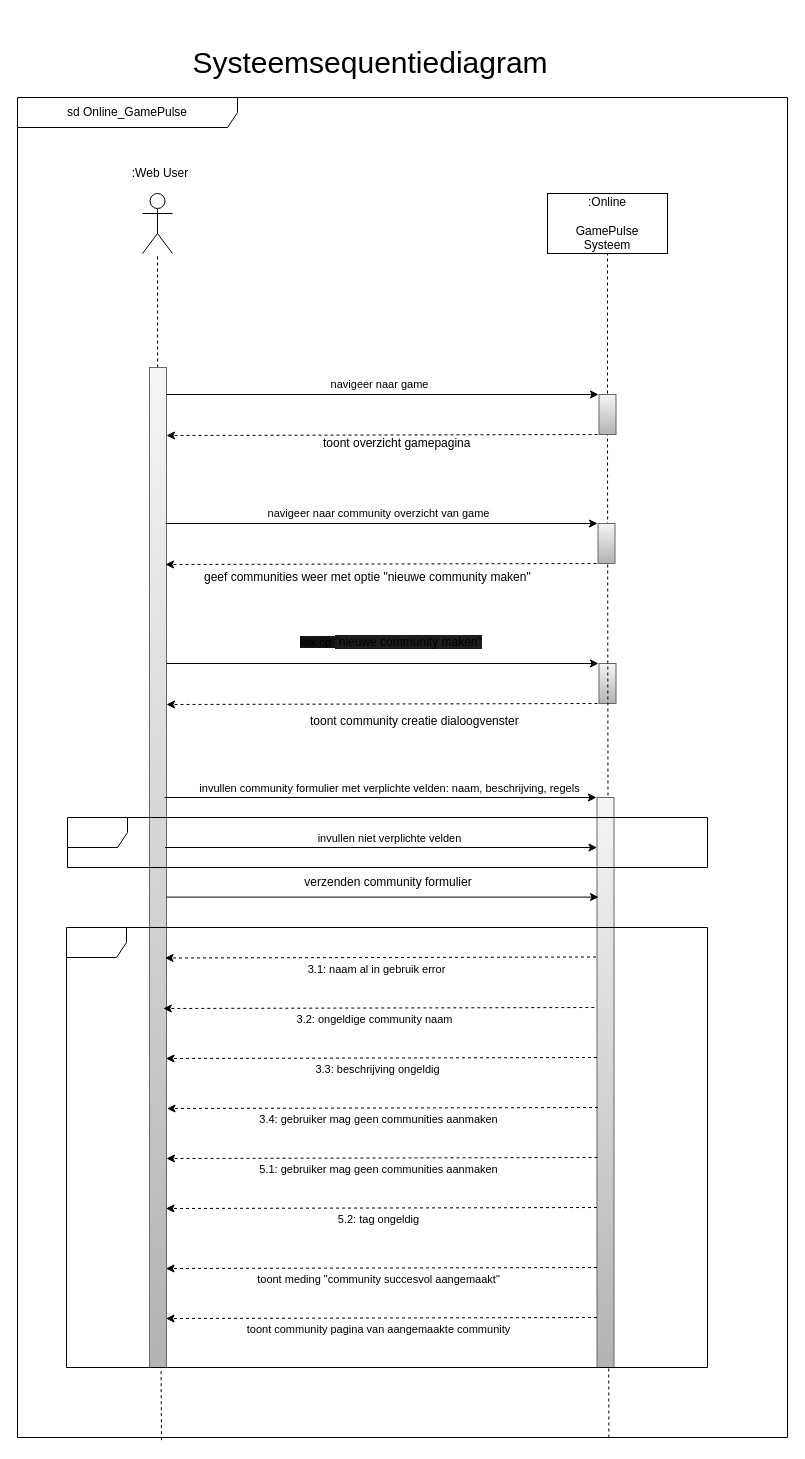
Image size: 805x1459. Some labels were removed from this diagram. Here are the shapes that lost their labels. From the top down, the centre of each, then its label:
the point at 387,842: opt
the point at 387,1147: alt
